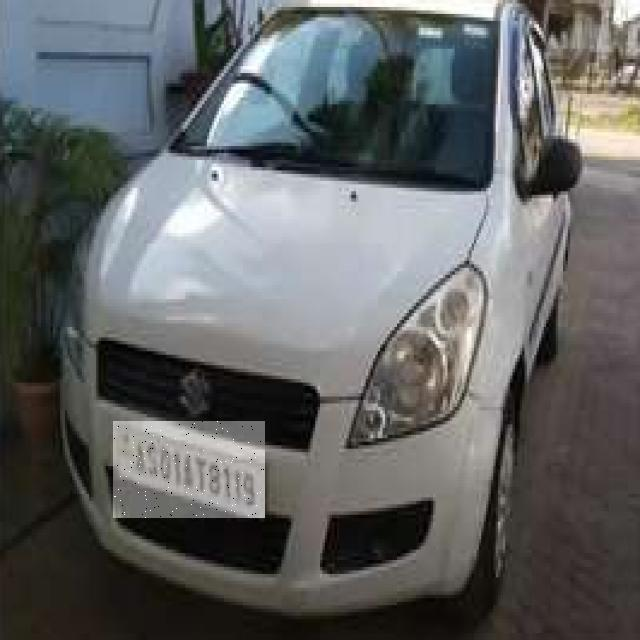Plate: (114, 422, 266, 519)
